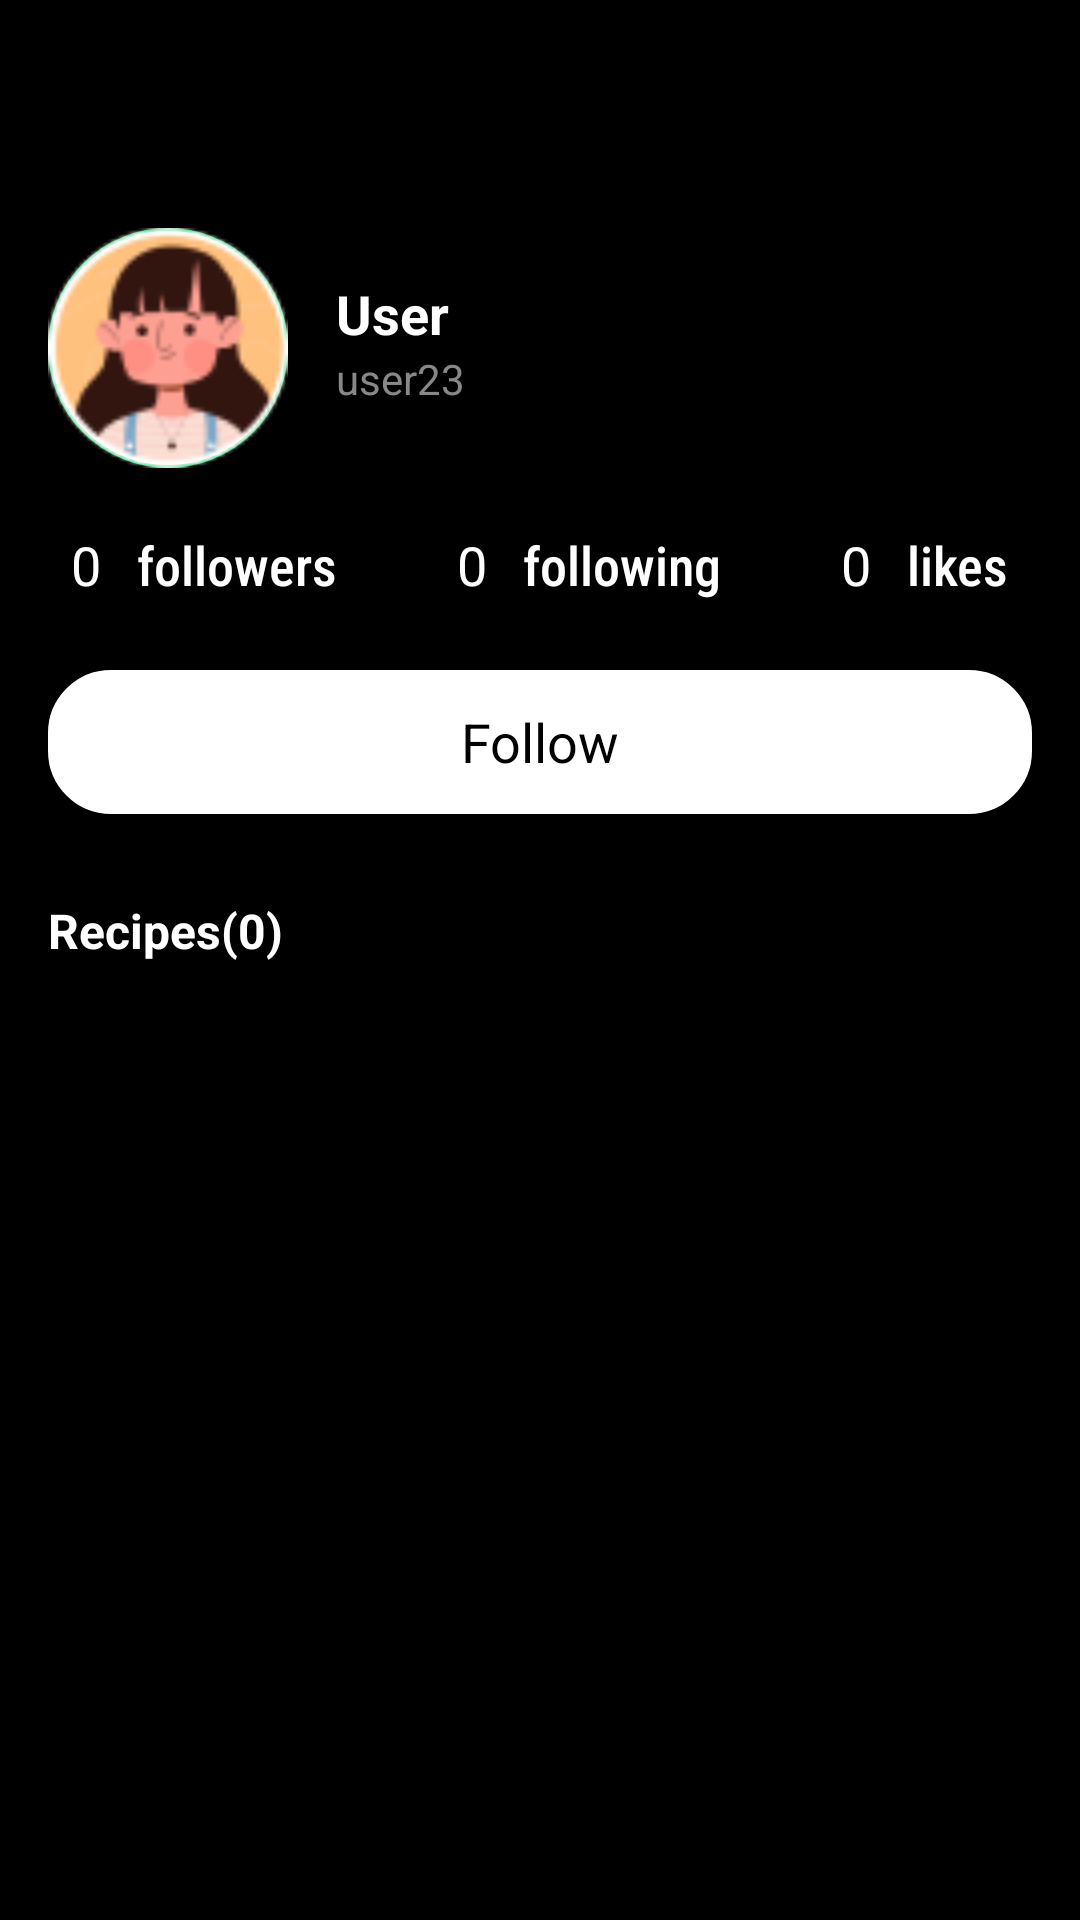

Icon bounding boxes for this 1080x1920 phone screenshot, format rect(x1, y1, x2, y2):
Profile Picture: rect(48, 228, 288, 468)
